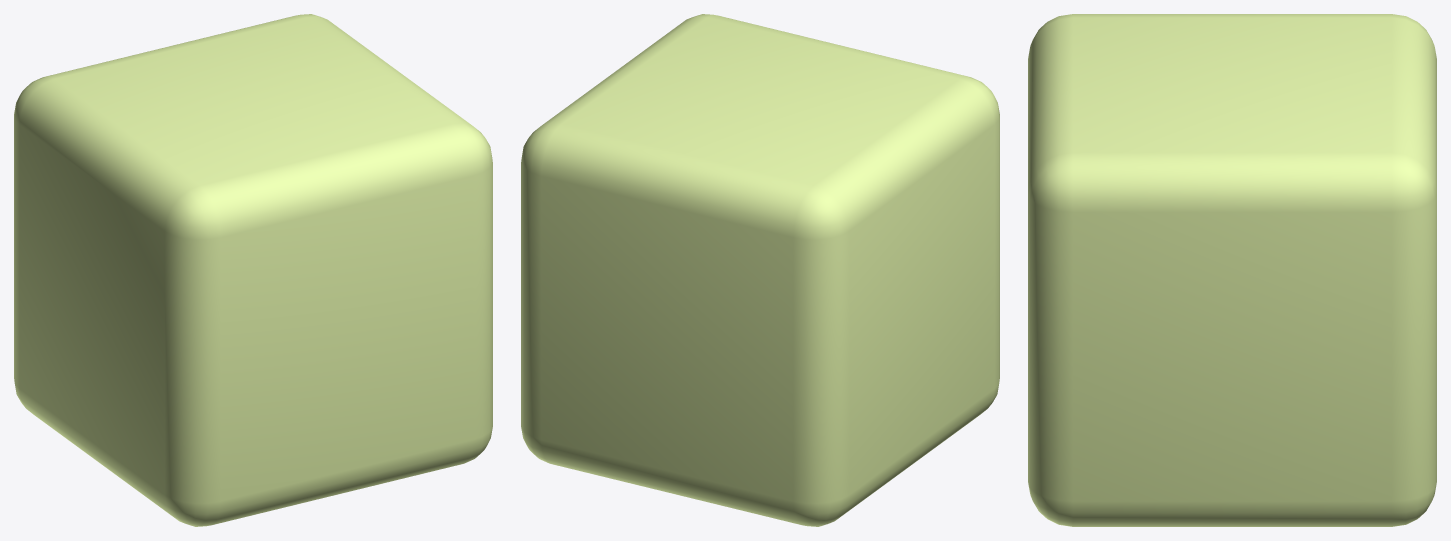
3 views of the same model, side by side, from view 1: azimuth 30°, elevation 25°; view 2: azimuth 150°, elevation 25°; view 3: azimuth 270°, elevation 25° (orthographic). The views are drawn at different scales.
Visible parts, largest first — view 1: Cube; view 2: Cube; view 3: Cube.
Boxes of the visible parts, x1,y1,x2,y2 form: Cube: (14, 14, 492, 526); Cube: (521, 14, 999, 526); Cube: (1028, 14, 1436, 526).
Bounding box in the file's own units: 200 × 200 × 200.
